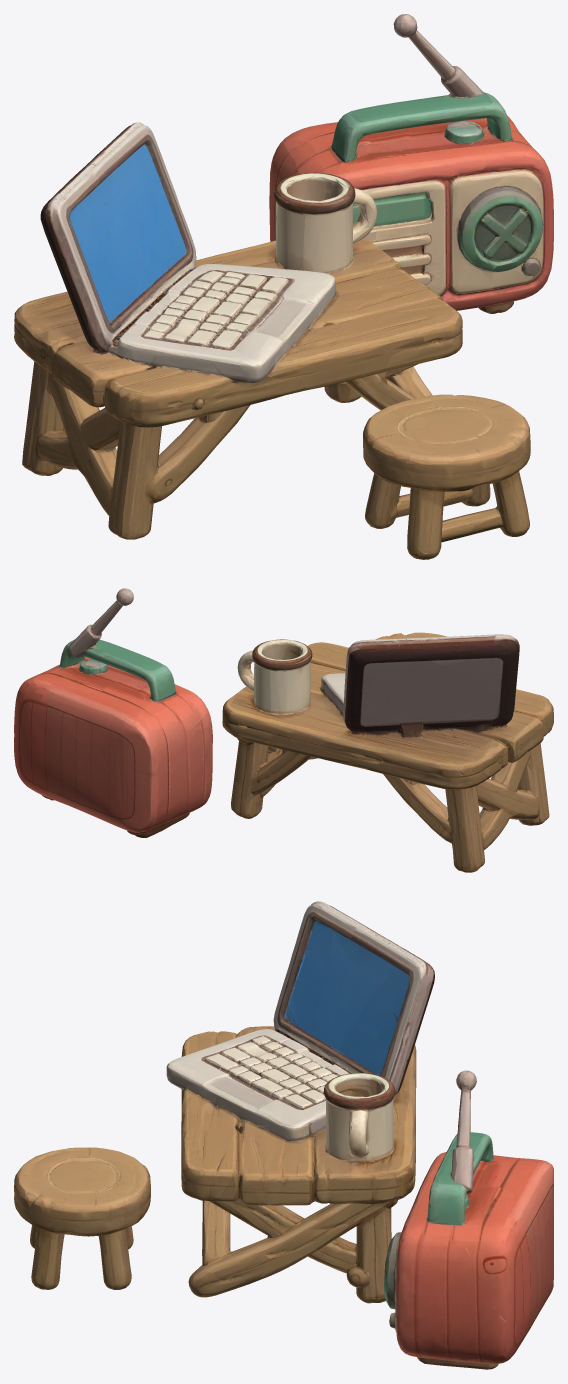
The model's file is folding-laptop-radio-station-meshy6-web-v1.glb.
3 renders of one model, top to bottom at view 1: azimuth 30°, elevation 25°; view 2: azimuth 150°, elevation 25°; view 3: azimuth 270°, elevation 25°, orthographic. The views are drawn at different scales.
Bounding box in the file's own units: 1.9 × 0.993 × 1.75.
1 material, 1 textured.
